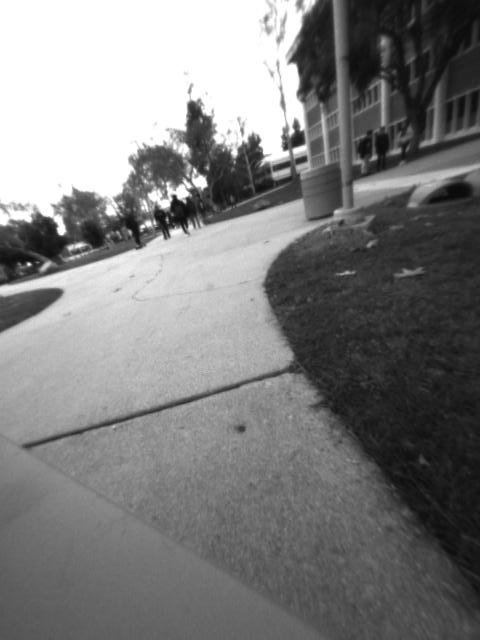trashcan: (295, 159, 350, 221)
